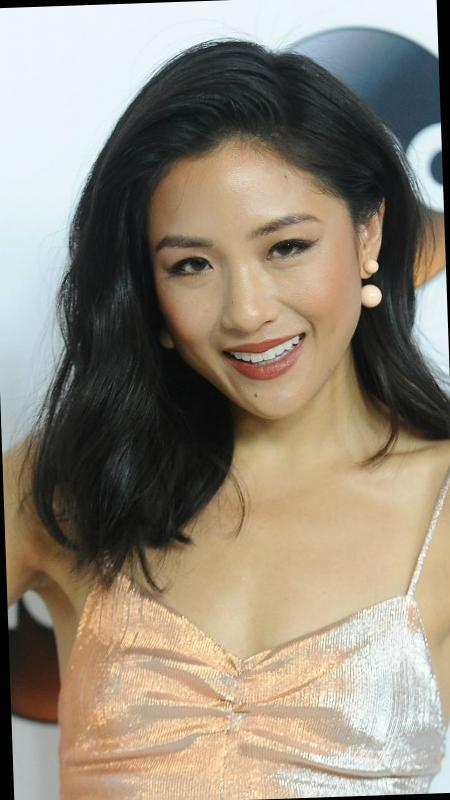Sober: (159, 172, 351, 404)
